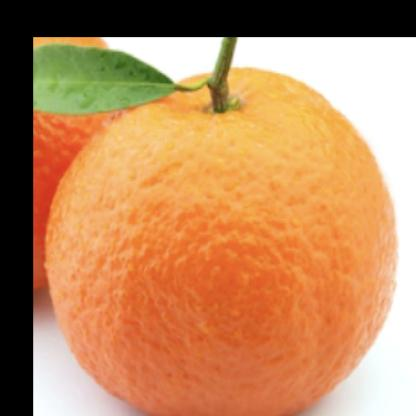fresh: (43, 64, 401, 416)
